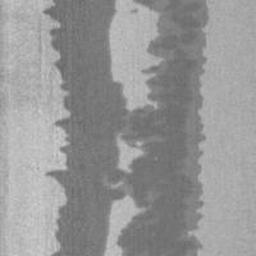Water spot: (40, 0, 211, 256)
